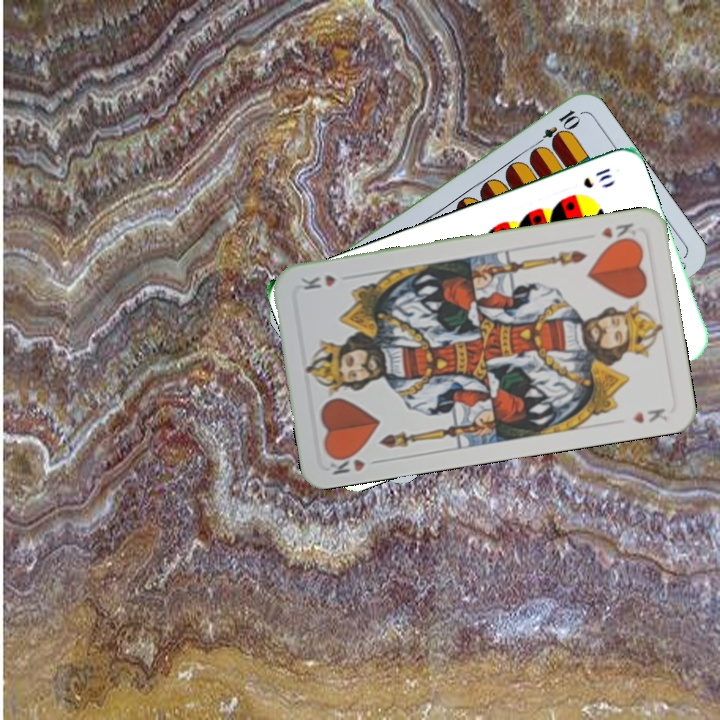E10: (530, 105, 582, 151)
HK: (324, 447, 384, 478), (597, 219, 639, 247)
S10: (579, 164, 615, 191)
